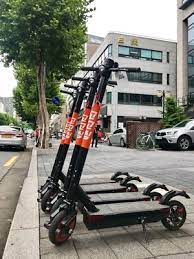kick_body: (98, 202, 161, 223), (84, 185, 124, 192), (81, 176, 111, 183)
kick_handler: (82, 59, 141, 74)
kick_wheel: (49, 209, 76, 243), (164, 201, 186, 229)
